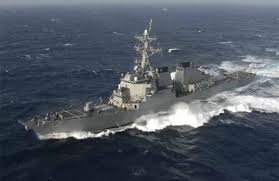tau_muctieu: (22, 42, 262, 134)
